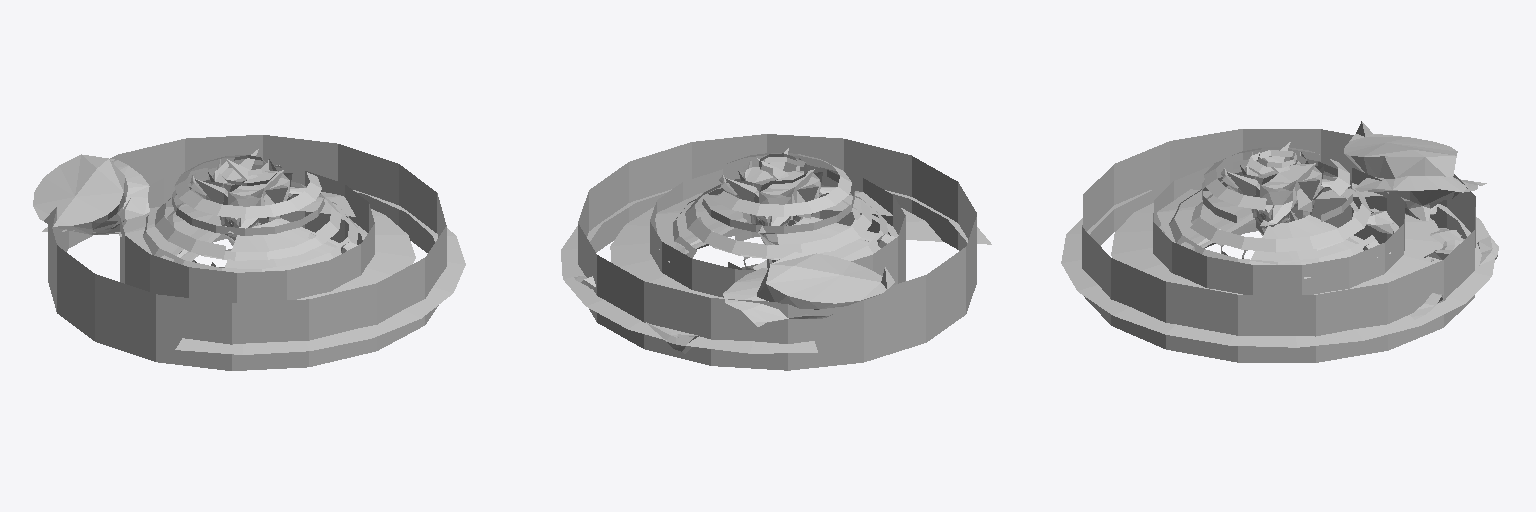
Rendered from Spinning Crash.obj.
3 views of the same model, side by side, from view 1: azimuth 30°, elevation 25°; view 2: azimuth 150°, elevation 25°; view 3: azimuth 270°, elevation 25° (orthographic).
Parts seen in each view (by area): view 1: Cortex, Crash; view 2: Cortex, Crash; view 3: Cortex, Crash.
Boxes of the visible parts, x1,y1,x2,y2 form: Cortex: [33, 135, 465, 370]; Crash: [119, 149, 374, 302]; Cortex: [561, 134, 991, 370]; Crash: [650, 148, 905, 297]; Cortex: [1061, 121, 1498, 362]; Crash: [1153, 142, 1404, 294].
Bounding box in the file's own units: 150 × 76.88 × 158.